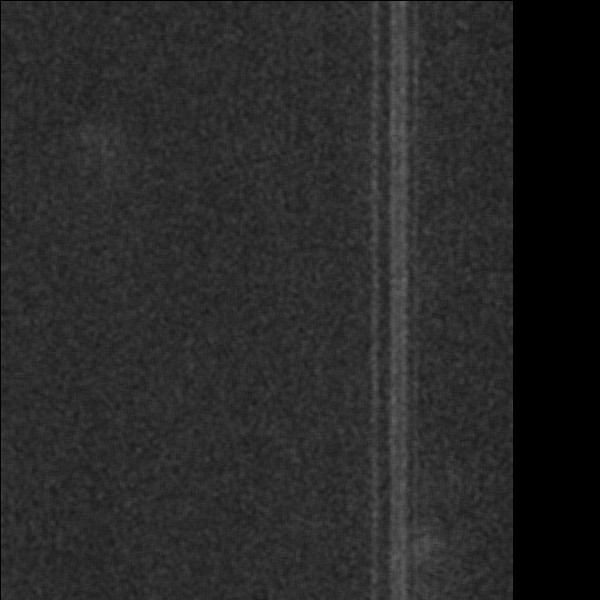spark: (411, 519, 435, 596)
